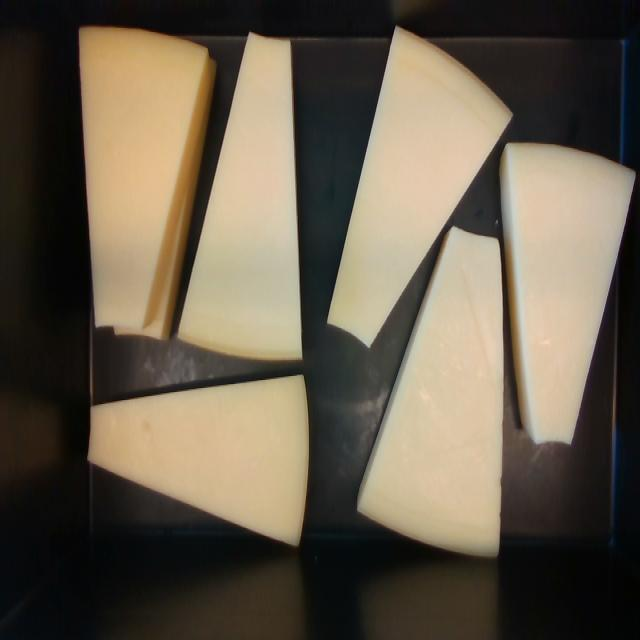cheese: (328, 29, 511, 344), (358, 227, 503, 553), (501, 144, 634, 443), (180, 33, 301, 359), (79, 28, 207, 327), (88, 376, 308, 544)
